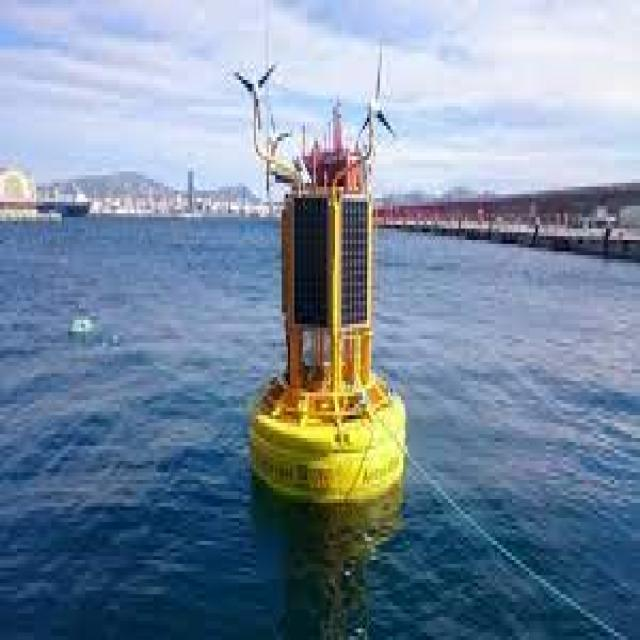buoy: (227, 26, 418, 514)
